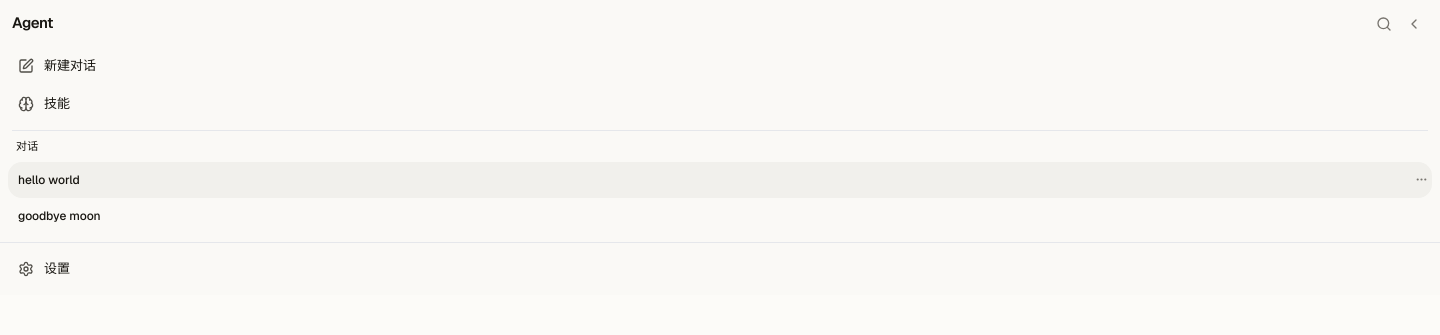
Test case: SessionSidebar › filters sessions by search query
Click the button named "Search sessions": (1384, 24) [1370,10,1398,38]
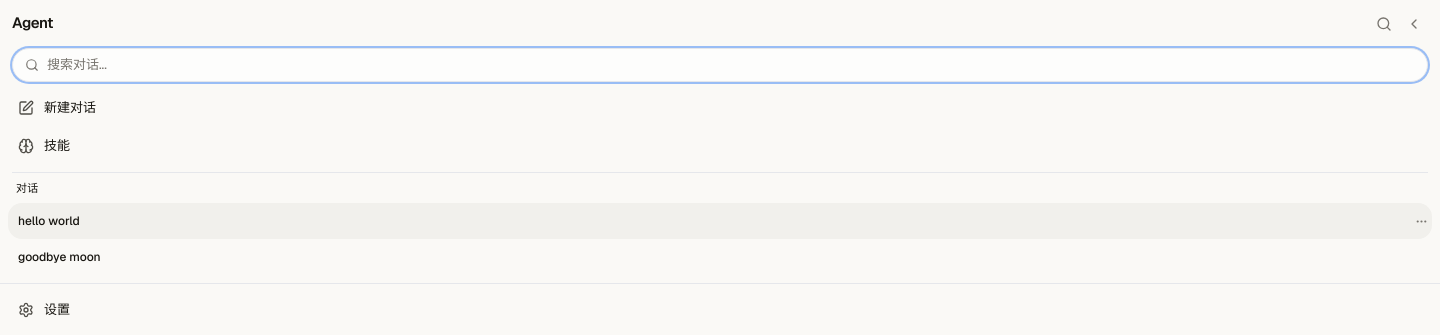
In the field with placeholder "搜索对话...": (731, 65) [47,55,1415,74], type "goodbye"
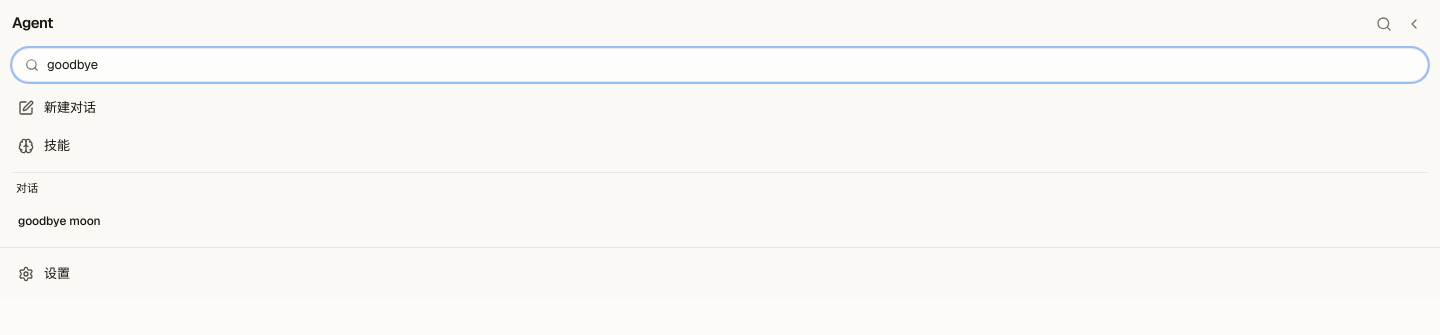
expect the text "goodbye moon" is shown: met, box [18,213,101,229]
expect the button "hello world" is gone: met
